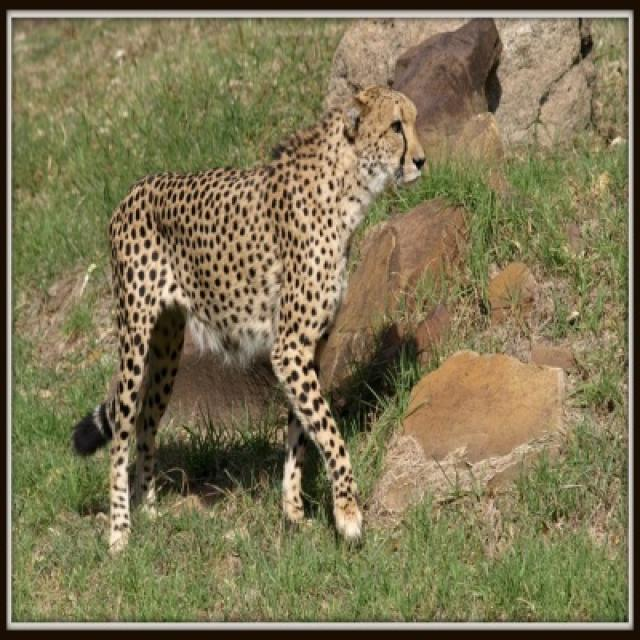Cheetah: (68, 76, 430, 557)
